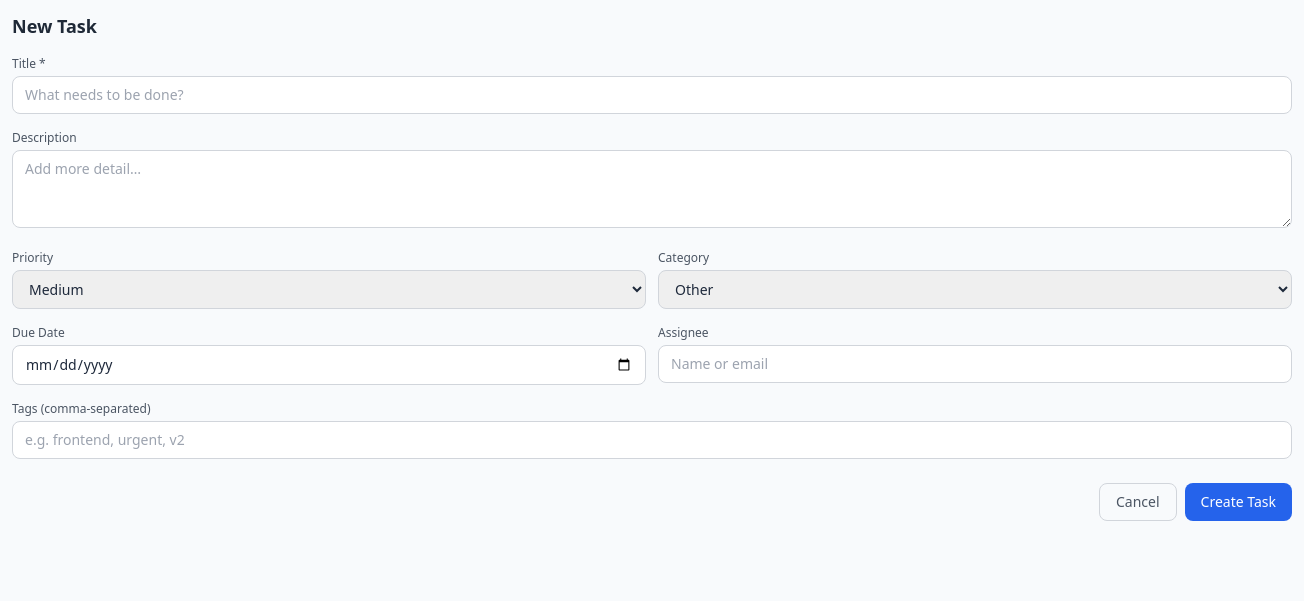
Scenario: TaskForm — create mode › shows a validation error when title is empty on submit
# Leave title empty and click submit
Click the button with test id "submit-button" at (1238, 502), box [1185,483,1292,521]
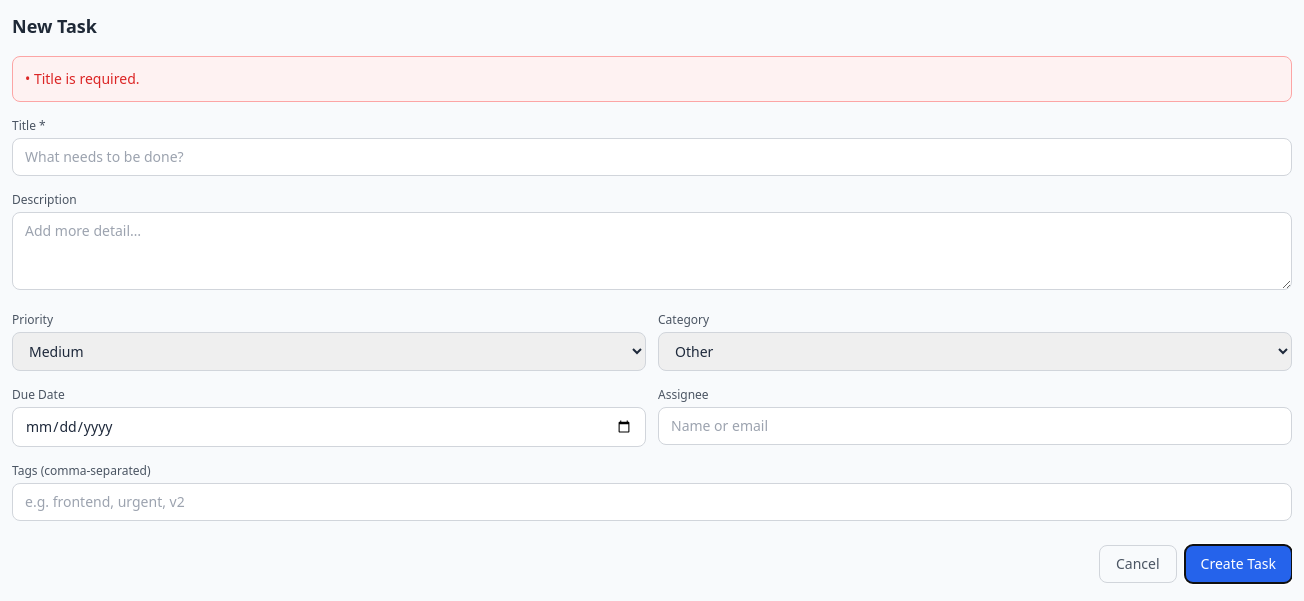
Check: the message "• Title is required." is shown, box [12,56,1292,102]
